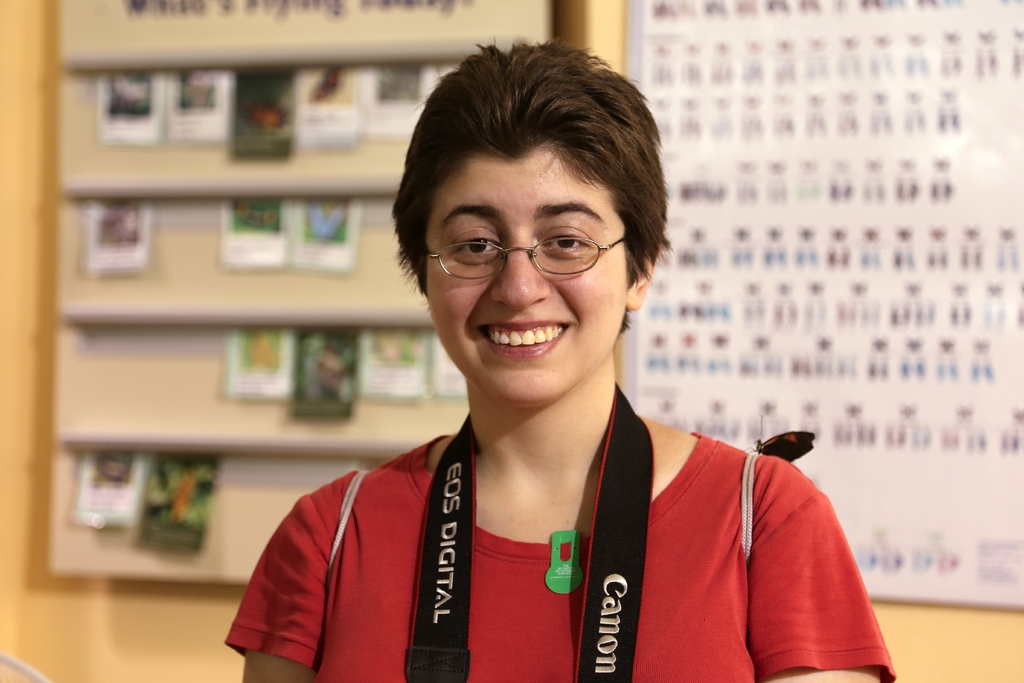Person: (223, 35, 896, 683)
